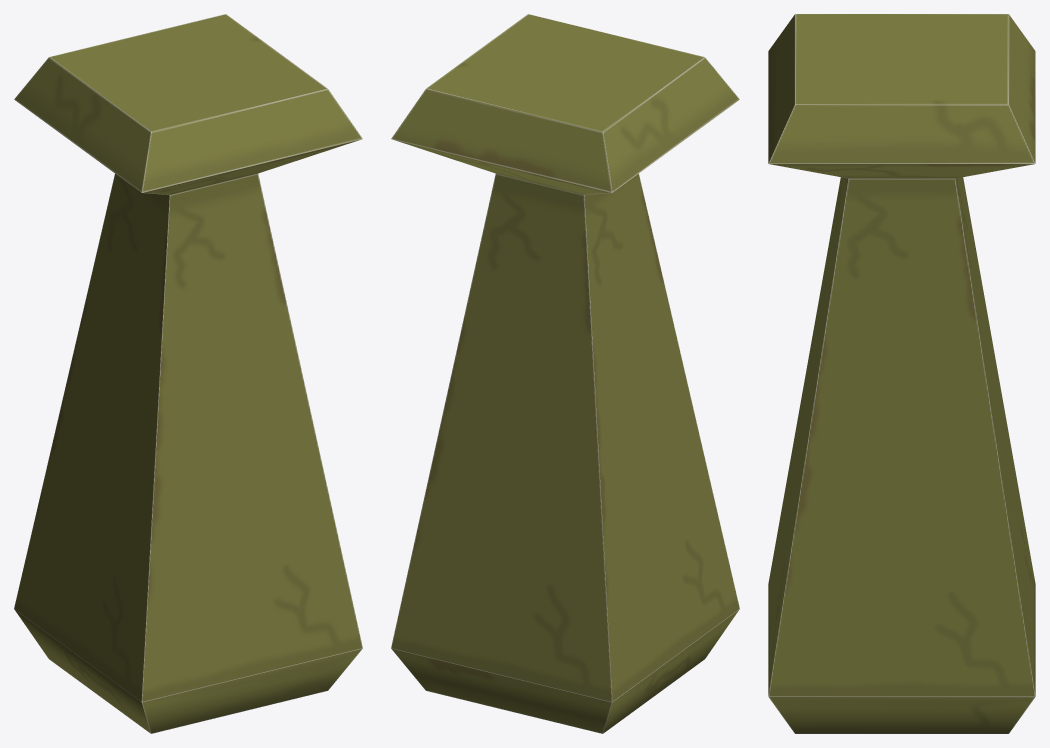
Rendered from Breakable_Column_Bottom.fbx.
The picture shows the model from 3 angles, left to right: view 1: azimuth 30°, elevation 25°; view 2: azimuth 150°, elevation 25°; view 3: azimuth 270°, elevation 25°; orthographic projection. The views are drawn at different scales.
Visible parts, largest first — view 1: pCube5; view 2: pCube5; view 3: pCube5.
Boxes of the visible parts, box(x1,y1,x2,y2) form: pCube5: box(14, 14, 362, 733); pCube5: box(391, 14, 739, 733); pCube5: box(768, 14, 1035, 733).
Size of the model in its own units: 10 by 26 by 10.
1 material, 1 textured.
